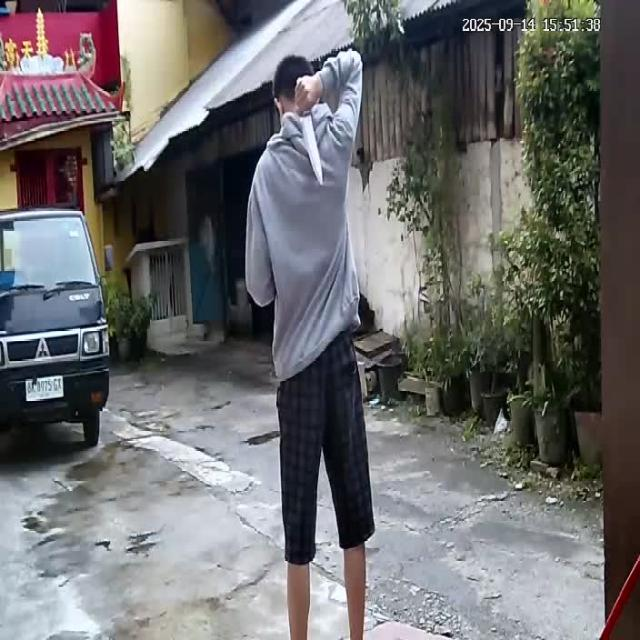senjata_tajam: (300, 112, 326, 186)
